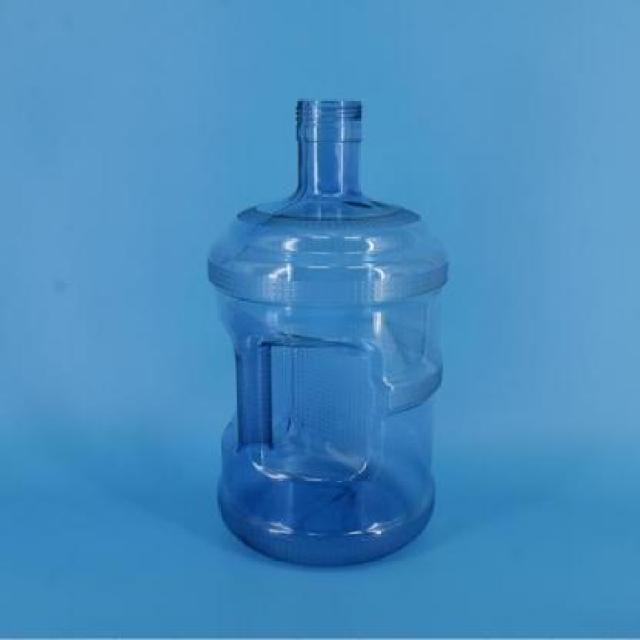coolerbottle: (203, 94, 451, 572)
